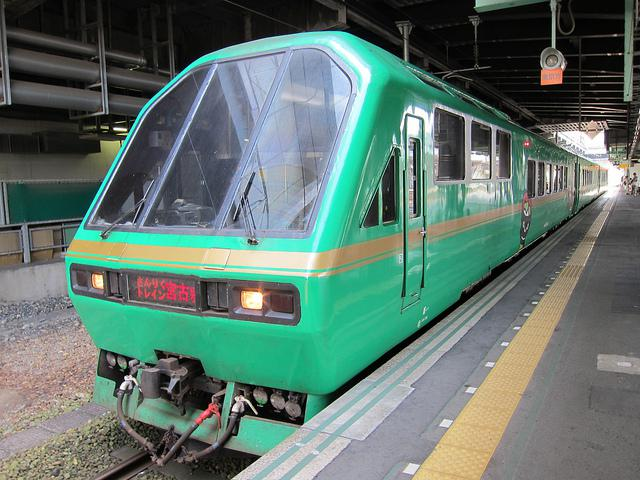Train: (57, 31, 616, 471)
